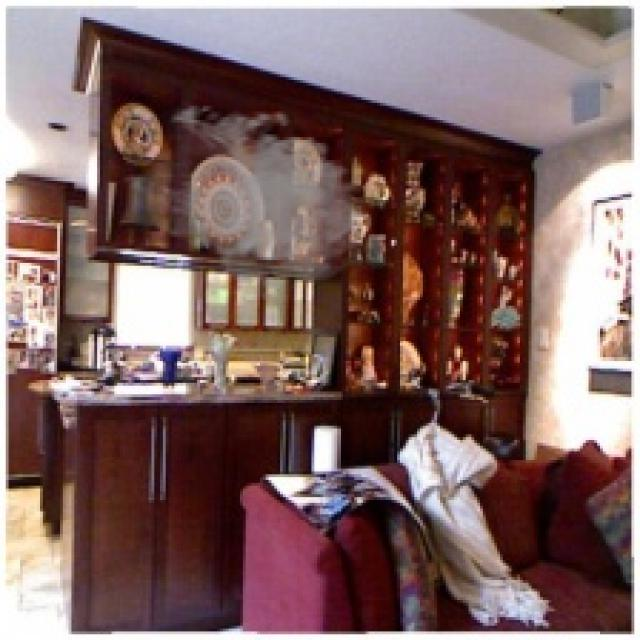smoke: (137, 100, 374, 303)
